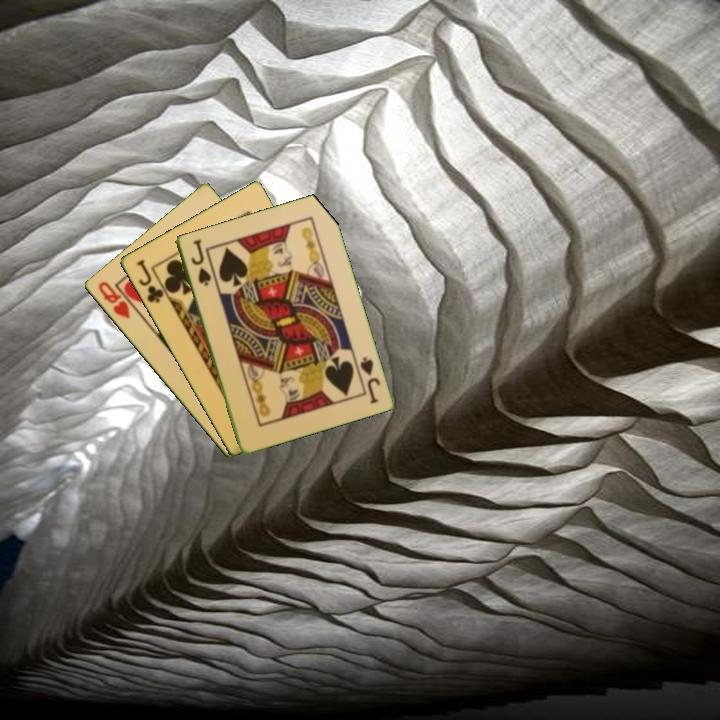Jc: (132, 256, 166, 306)
Js: (356, 353, 383, 407), (187, 236, 213, 289)
Qh: (94, 278, 133, 322)
